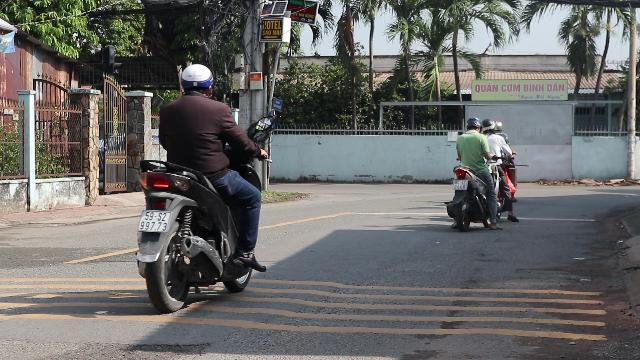helmet: (178, 63, 214, 96), (465, 116, 481, 132)
licenseplate: (138, 210, 170, 231), (452, 180, 468, 190)
motorcyclist: (130, 63, 268, 310), (445, 115, 513, 229)
